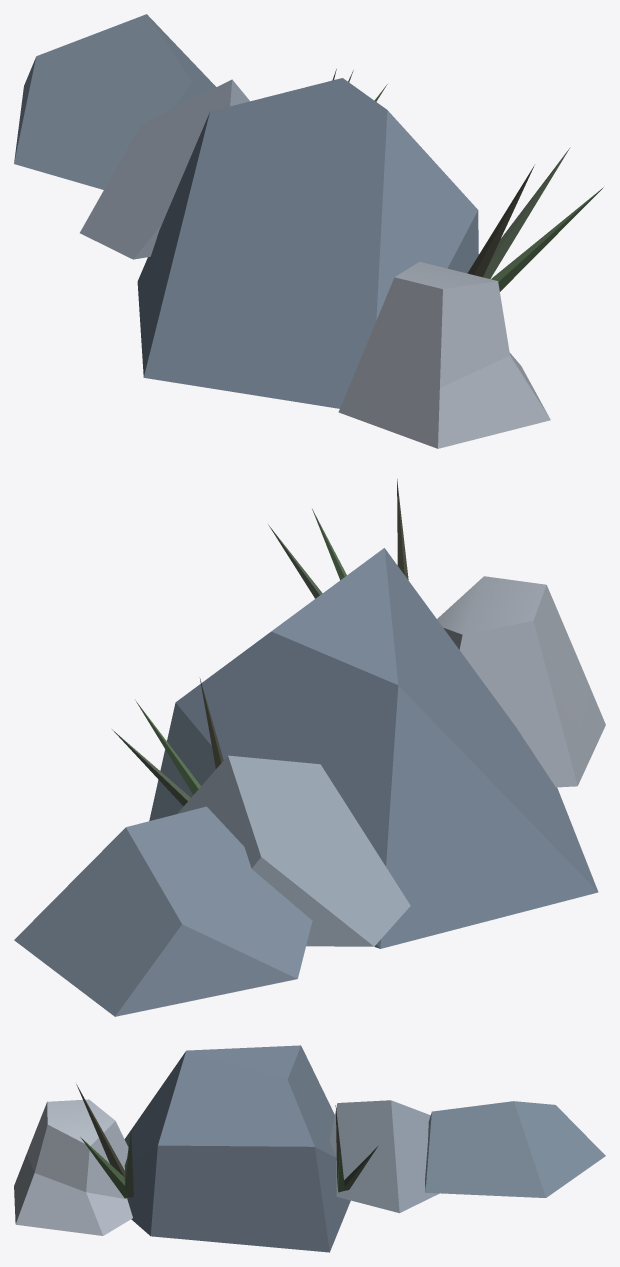
The model's file is Rock.glb.
3 views of the same model, one above another, from view 1: azimuth 30°, elevation 25°; view 2: azimuth 150°, elevation 25°; view 3: azimuth 270°, elevation 25° (orthographic). The views are drawn at different scales.
Visible parts, largest first — view 1: Rock-pack-ver2; view 2: Rock-pack-ver2; view 3: Rock-pack-ver2.
Boxes of the visible parts, x1,y1,x2,y2 form: Rock-pack-ver2: (14,14,603,448); Rock-pack-ver2: (14,479,605,1016); Rock-pack-ver2: (14,1045,605,1252).
Bounding box in the file's own units: 1.01 × 0.6275 × 2.06.
1 material, 1 textured.
